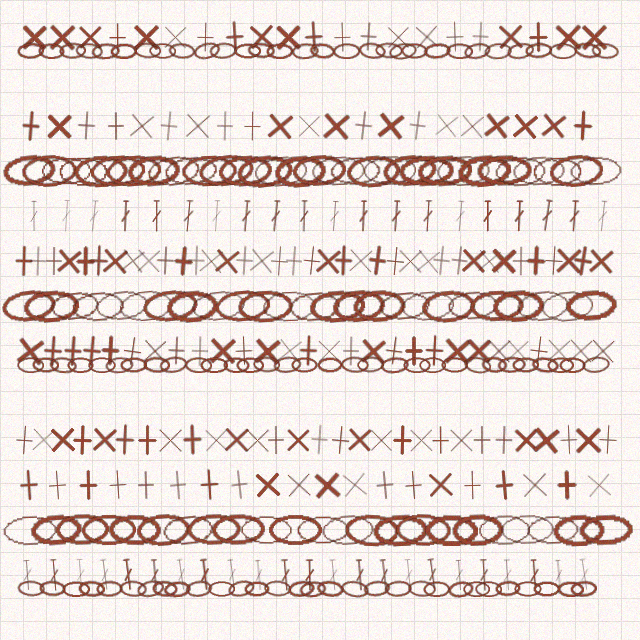chain: (197, 151, 256, 190), (144, 151, 202, 190), (235, 152, 294, 190), (141, 287, 199, 325), (189, 287, 247, 325), (0, 287, 57, 325), (381, 152, 439, 189), (93, 287, 151, 324), (514, 287, 572, 324), (47, 287, 103, 325), (1, 152, 58, 189), (117, 287, 174, 324), (159, 511, 216, 548), (252, 153, 310, 189), (22, 288, 80, 324), (308, 288, 366, 324), (399, 288, 457, 324), (456, 152, 512, 189), (548, 152, 604, 189), (331, 287, 387, 324), (89, 153, 146, 189), (105, 153, 162, 189), (162, 153, 219, 189), (217, 153, 274, 189), (416, 153, 473, 189), (69, 288, 126, 324), (214, 288, 271, 324), (420, 288, 477, 324), (126, 153, 182, 189), (345, 153, 401, 189), (286, 288, 342, 324), (376, 288, 432, 324), (539, 288, 595, 324), (435, 153, 492, 188), (273, 153, 328, 189), (165, 288, 220, 324), (29, 512, 84, 548), (21, 153, 77, 188), (291, 153, 347, 188), (445, 288, 501, 323), (135, 512, 191, 547), (320, 512, 376, 547), (237, 289, 294, 323), (261, 289, 318, 323), (1, 513, 58, 547), (352, 288, 407, 323), (491, 288, 546, 323), (564, 288, 619, 323), (181, 154, 237, 188), (310, 154, 366, 188), (398, 154, 454, 188), (511, 154, 567, 188), (568, 154, 624, 188), (372, 513, 428, 547), (525, 513, 581, 547), (395, 513, 452, 546), (499, 513, 556, 546), (73, 154, 128, 188), (328, 154, 383, 188), (493, 154, 548, 188), (469, 289, 524, 323), (344, 513, 399, 547), (578, 513, 633, 547), (362, 154, 418, 187), (476, 154, 532, 187), (552, 513, 606, 547), (186, 513, 241, 546), (211, 513, 266, 546), (55, 513, 109, 546), (451, 513, 505, 546), (477, 513, 531, 546), (81, 514, 136, 546), (239, 514, 294, 546), (295, 514, 350, 546), (39, 155, 93, 187), (108, 514, 162, 546), (268, 514, 322, 546), (424, 514, 478, 546), (57, 155, 110, 187), (531, 155, 584, 187), (192, 40, 222, 61), (136, 578, 165, 599), (227, 578, 256, 599), (388, 41, 418, 61), (340, 579, 370, 599), (463, 41, 492, 61), (506, 41, 535, 61), (463, 355, 492, 375), (447, 579, 475, 599), (573, 41, 602, 60), (159, 355, 188, 374), (273, 355, 302, 374), (358, 41, 386, 60), (582, 355, 610, 374), (185, 579, 213, 598), (287, 579, 315, 598), (316, 579, 344, 598), (363, 579, 391, 598), (91, 42, 120, 60), (105, 356, 134, 374), (380, 356, 409, 374), (75, 42, 103, 60), (168, 42, 196, 60), (291, 42, 319, 60), (423, 42, 451, 60), (484, 42, 512, 60), (591, 42, 619, 60), (49, 356, 77, 374), (531, 356, 559, 374), (163, 580, 191, 598), (299, 580, 327, 598), (497, 356, 526, 373), (309, 42, 336, 60), (209, 42, 237, 59), (247, 42, 275, 59), (375, 42, 403, 59), (341, 356, 369, 373), (17, 580, 45, 597), (119, 580, 147, 597), (384, 580, 412, 597), (408, 580, 436, 597), (17, 42, 44, 59), (59, 42, 86, 59), (134, 42, 161, 59), (525, 42, 552, 59), (143, 356, 170, 373), (253, 356, 280, 373), (357, 356, 384, 373), (481, 356, 508, 373), (39, 580, 66, 597), (78, 580, 105, 597), (96, 580, 123, 597), (264, 580, 291, 597), (570, 580, 597, 597), (549, 43, 577, 59), (88, 357, 116, 373), (200, 357, 228, 373), (236, 357, 264, 373), (403, 357, 431, 373), (62, 581, 90, 597), (514, 581, 542, 597), (152, 580, 178, 597), (495, 580, 521, 597), (38, 43, 65, 59), (110, 43, 137, 59), (149, 43, 176, 59), (234, 43, 261, 59), (266, 43, 293, 59), (333, 43, 360, 59), (401, 43, 428, 59), (446, 43, 473, 59), (17, 357, 44, 373), (32, 357, 59, 373), (67, 357, 94, 373), (120, 357, 147, 373), (185, 357, 212, 373), (223, 357, 250, 373), (291, 357, 318, 373), (419, 357, 446, 373), (441, 357, 468, 373), (512, 357, 539, 373), (547, 357, 574, 373), (559, 357, 586, 373), (208, 581, 235, 597), (423, 581, 450, 597), (463, 581, 490, 597), (475, 581, 502, 597), (533, 581, 560, 597), (557, 581, 584, 597), (317, 357, 343, 373), (244, 581, 270, 597)
double: (174, 558, 189, 591), (425, 558, 440, 591), (577, 558, 592, 591), (540, 199, 554, 232), (98, 558, 112, 591), (121, 558, 135, 591), (198, 558, 212, 591), (225, 558, 239, 591), (87, 200, 101, 232), (402, 559, 416, 591), (182, 200, 195, 232), (210, 200, 223, 232), (269, 200, 282, 232), (328, 200, 341, 232), (568, 200, 581, 232), (596, 200, 609, 232), (21, 559, 34, 591), (48, 559, 61, 591), (74, 559, 87, 591), (279, 559, 292, 591), (327, 559, 340, 591), (378, 559, 391, 591), (501, 559, 514, 591), (528, 559, 541, 591), (60, 200, 72, 232), (240, 200, 252, 232), (390, 200, 402, 232), (422, 200, 434, 232), (454, 200, 466, 232), (513, 200, 525, 232), (149, 559, 161, 591), (253, 559, 265, 591), (354, 559, 366, 591), (453, 559, 465, 591), (478, 559, 490, 591), (553, 559, 565, 591), (120, 200, 131, 232), (151, 200, 162, 232), (358, 200, 369, 232), (482, 200, 493, 232), (304, 559, 315, 591), (29, 200, 39, 232), (299, 200, 309, 232)
single: (565, 243, 601, 279), (12, 333, 48, 369), (114, 333, 150, 369), (124, 108, 159, 143), (346, 108, 381, 143), (373, 108, 408, 143), (400, 108, 435, 143), (429, 108, 464, 143), (479, 108, 514, 143), (536, 108, 571, 143), (115, 243, 150, 278), (244, 243, 279, 278), (294, 243, 329, 278), (360, 243, 395, 278), (424, 243, 459, 278), (442, 243, 477, 278), (272, 333, 307, 368), (376, 333, 411, 368), (521, 333, 556, 368), (222, 467, 257, 502), (337, 467, 372, 502), (14, 109, 48, 143), (152, 109, 186, 143), (263, 109, 297, 143), (319, 109, 353, 143), (455, 109, 489, 143), (508, 109, 542, 143), (52, 244, 86, 278), (98, 244, 132, 278), (166, 244, 200, 278), (194, 244, 228, 278), (210, 244, 244, 278), (262, 244, 296, 278), (277, 244, 311, 278), (311, 244, 345, 278), (378, 244, 412, 278), (411, 244, 445, 278), (472, 244, 506, 278), (584, 244, 618, 278), (36, 334, 70, 368), (56, 334, 90, 368), (75, 334, 109, 368), (250, 334, 284, 368), (356, 334, 390, 368), (440, 334, 474, 368), (7, 423, 41, 457), (323, 423, 357, 457), (529, 423, 563, 457), (12, 468, 46, 502), (40, 468, 74, 502), (161, 468, 195, 502), (310, 468, 344, 502), (368, 468, 402, 502), (396, 468, 430, 502), (487, 468, 521, 502), (582, 468, 616, 502), (218, 20, 251, 53), (245, 20, 278, 53), (297, 20, 330, 53), (352, 20, 385, 53), (410, 20, 443, 53), (438, 20, 471, 53), (464, 20, 497, 53), (494, 20, 527, 53), (70, 109, 103, 142), (181, 109, 214, 142), (566, 109, 599, 142), (82, 244, 115, 277), (132, 244, 165, 277), (149, 244, 182, 277), (180, 244, 213, 277), (228, 244, 261, 277), (327, 244, 360, 277), (344, 244, 377, 277), (457, 244, 490, 277), (487, 244, 520, 277), (519, 244, 552, 277), (537, 244, 570, 277), (552, 244, 585, 277), (94, 334, 127, 367), (138, 334, 171, 367), (160, 334, 193, 367), (206, 334, 239, 367), (227, 334, 260, 367), (292, 334, 325, 367), (418, 334, 451, 367), (462, 334, 495, 367), (482, 334, 515, 367), (501, 334, 534, 367), (542, 334, 575, 367), (564, 334, 597, 367), (586, 334, 619, 367), (27, 423, 60, 456), (46, 423, 79, 456), (88, 423, 121, 456), (108, 423, 141, 456), (176, 423, 209, 456), (220, 423, 253, 456), (303, 423, 336, 456), (343, 423, 376, 456), (552, 423, 585, 456), (591, 423, 624, 456), (101, 468, 134, 501), (193, 468, 226, 501), (251, 468, 284, 501), (282, 468, 315, 501), (424, 468, 457, 501), (518, 468, 551, 501), (18, 21, 50, 53), (46, 21, 78, 53), (74, 21, 106, 53), (101, 21, 133, 53), (130, 21, 162, 53), (159, 21, 191, 53), (189, 21, 221, 53), (272, 21, 304, 53), (326, 21, 358, 53), (382, 21, 414, 53), (522, 21, 554, 53), (552, 21, 584, 53), (578, 21, 610, 53), (43, 110, 75, 142), (100, 110, 132, 142), (209, 110, 241, 142), (236, 110, 268, 142), (293, 110, 325, 142), (8, 245, 40, 277), (22, 245, 54, 277), (38, 245, 70, 277), (69, 245, 101, 277), (394, 245, 426, 277), (505, 245, 537, 277), (184, 335, 216, 367), (313, 335, 345, 367), (335, 335, 367, 367), (398, 335, 430, 367), (66, 424, 98, 456), (131, 424, 163, 456), (154, 424, 186, 456), (200, 424, 232, 456), (241, 424, 273, 456), (260, 424, 292, 456), (282, 424, 314, 456), (365, 424, 397, 456), (386, 424, 418, 456), (405, 424, 437, 456), (424, 424, 456, 456), (445, 424, 477, 456), (466, 424, 498, 456), (488, 424, 520, 456), (510, 424, 542, 456), (572, 424, 604, 456), (72, 469, 104, 501), (130, 469, 162, 501), (456, 469, 488, 501), (551, 469, 583, 501)
